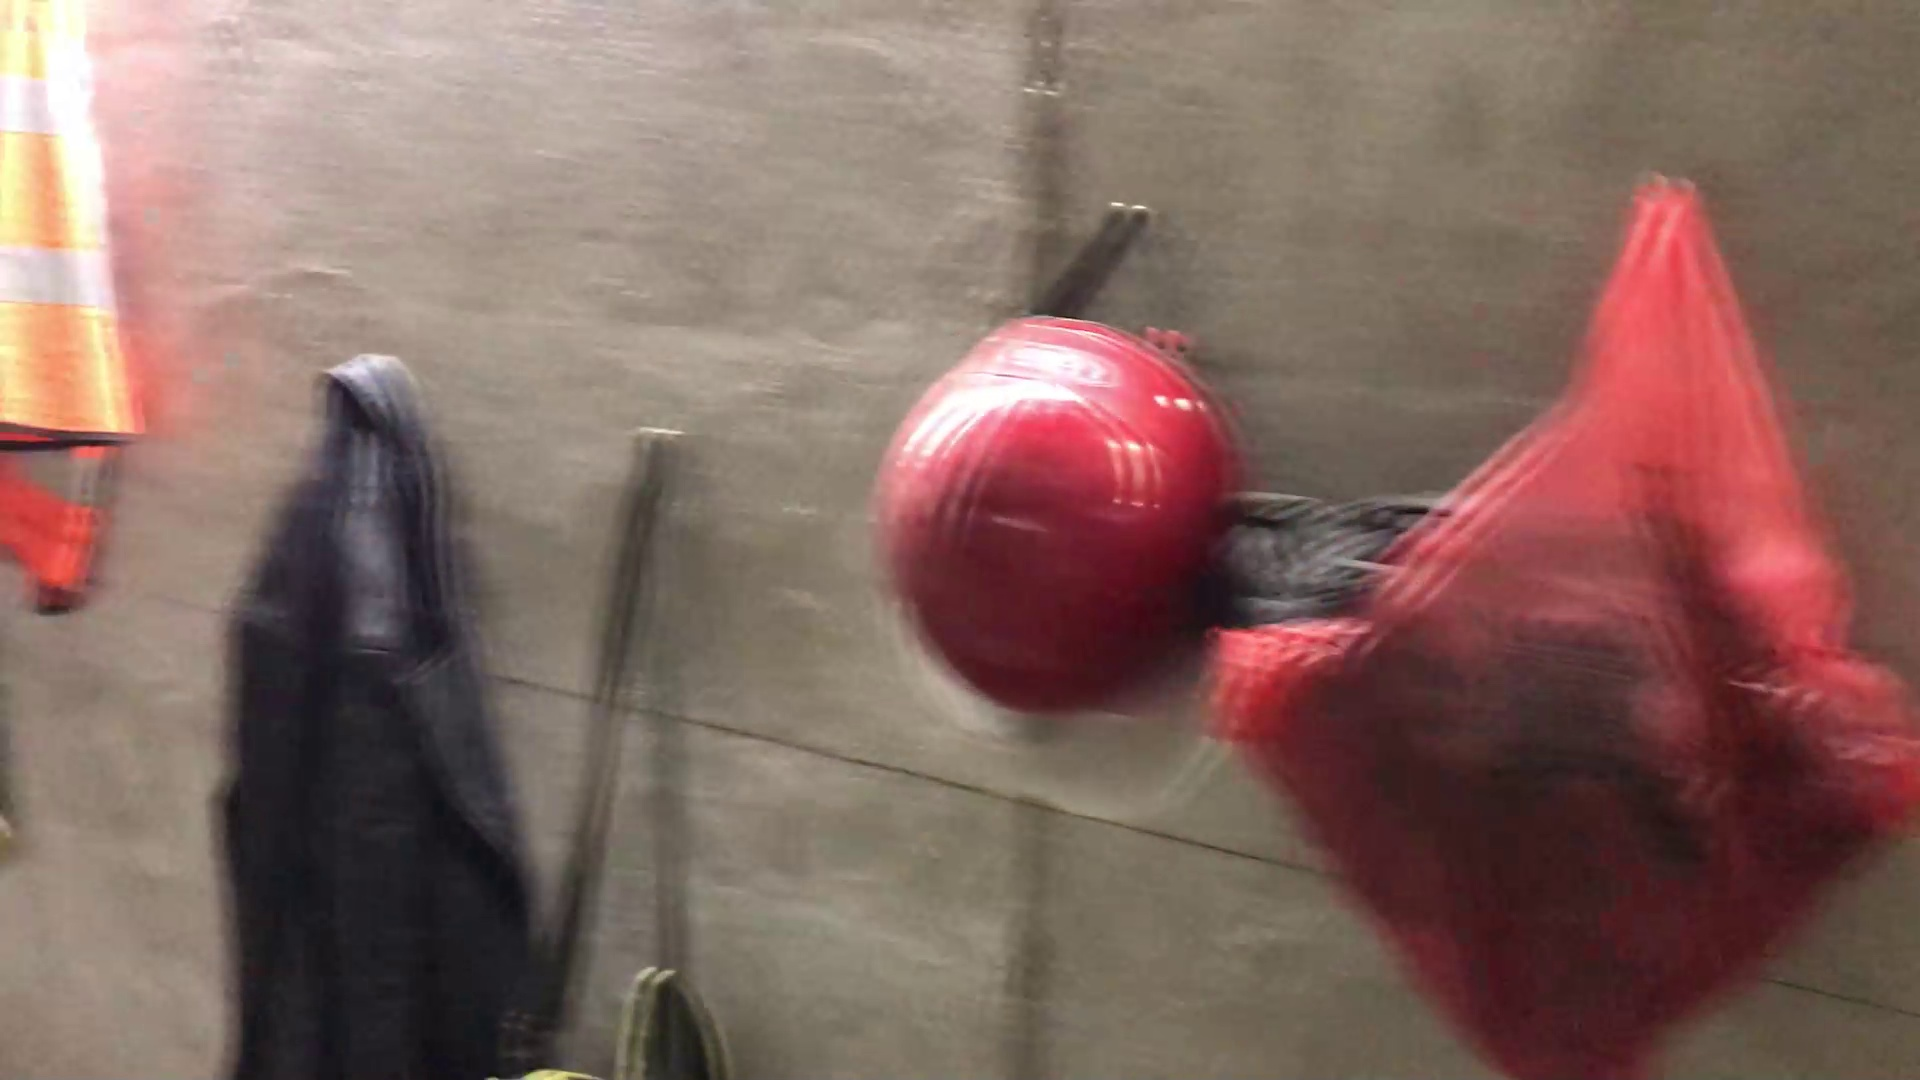helmet: (853, 293, 1267, 833)
vest: (1, 1, 185, 467)
